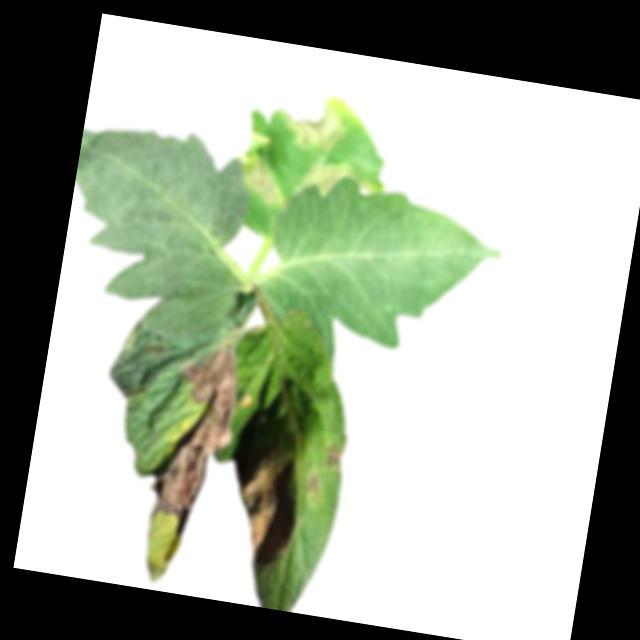Late_blight: (142, 339, 245, 542), (231, 446, 305, 573), (290, 153, 379, 206), (275, 92, 348, 155), (240, 146, 292, 208), (323, 441, 345, 470), (302, 469, 321, 494)
